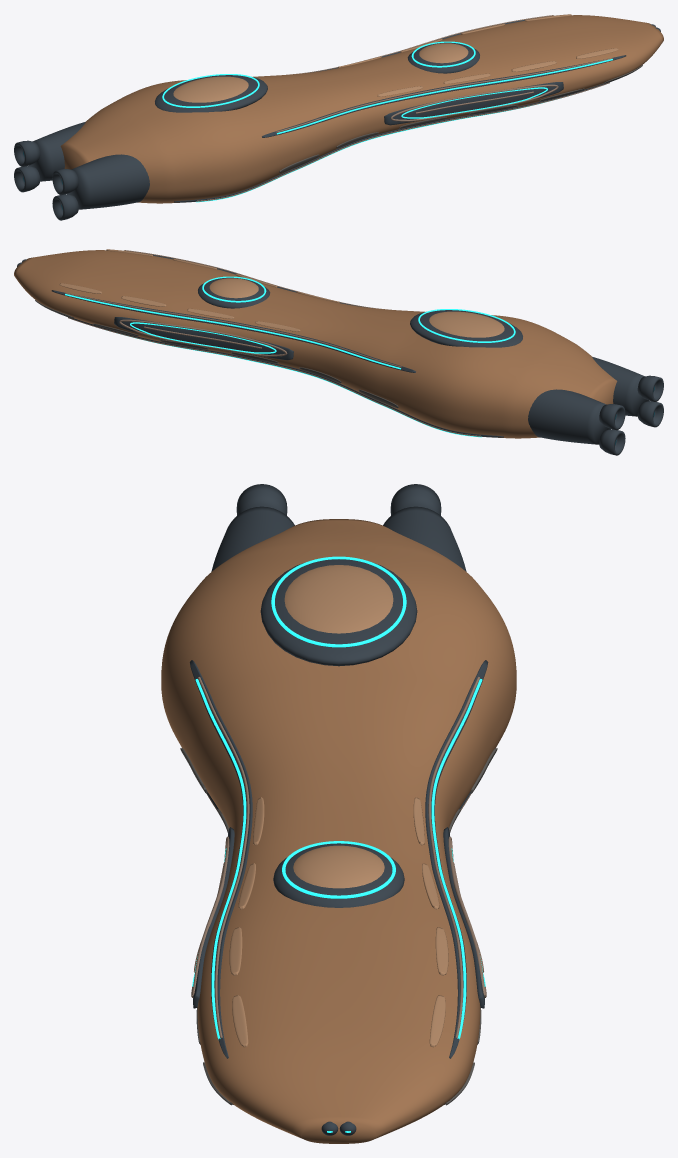
The model's file is electronic-warfare.glb.
The picture shows the model from 3 angles, top to bottom: view 1: azimuth 30°, elevation 25°; view 2: azimuth 150°, elevation 25°; view 3: azimuth 270°, elevation 25°; orthographic projection. The views are drawn at different scales.
Visible parts, largest first — view 1: Continuous pressure hull, Aft propulsion / integrated nacelle, Lateral phase array / contoured housing, Phase-array disk / recessed ring.001, Upper data conduit / seated channel, Phase-array disk / sensor cap.001, Aft propulsion / integrated nacelle.001, Phase-array disk / recessed ring, Lower data conduit / seated channel, Lateral phase array / bronze bezel, Phase-array disk / sensor cap, Upper data conduit / cyan inset (+10 smaller); view 2: Continuous pressure hull, Aft propulsion / integrated nacelle.001, Lateral phase array / contoured housing.001, Phase-array disk / recessed ring.001, Upper data conduit / seated channel.001, Phase-array disk / sensor cap.001, Aft propulsion / integrated nacelle, Phase-array disk / recessed ring, Lower data conduit / seated channel.001, Lateral phase array / bronze bezel.001, Phase-array disk / sensor cap, Upper data conduit / cyan inset.001 (+10 smaller); view 3: Continuous pressure hull, Phase-array disk / recessed ring.001, Phase-array disk / sensor cap.001, Phase-array disk / recessed ring, Phase-array disk / sensor cap, Upper data conduit / seated channel.001, Upper data conduit / seated channel, Aft propulsion / integrated nacelle, Aft propulsion / integrated nacelle.001, Phase-array disk / cyan ring.001, Upper data conduit / cyan inset, Upper data conduit / cyan inset.001 (+5 smaller).
Part boxes in pixels (x1,y1,x2,y2): Continuous pressure hull: (60, 15, 663, 203); Aft propulsion / integrated nacelle: (67, 154, 149, 209); Lateral phase array / contoured housing: (384, 82, 563, 125); Phase-array disk / recessed ring.001: (155, 75, 267, 112); Upper data conduit / seated channel: (262, 55, 626, 137); Phase-array disk / sensor cap.001: (173, 76, 248, 102); Aft propulsion / integrated nacelle.001: (29, 122, 85, 181); Phase-array disk / recessed ring: (407, 42, 479, 73); Lower data conduit / seated channel: (174, 79, 617, 202); Lateral phase array / bronze bezel: (390, 84, 558, 121); Phase-array disk / sensor cap: (419, 43, 468, 63); Upper data conduit / cyan inset: (277, 59, 612, 134); Continuous pressure hull: (14, 250, 617, 438); Aft propulsion / integrated nacelle.001: (528, 389, 610, 444); Lateral phase array / contoured housing.001: (114, 317, 293, 360); Phase-array disk / recessed ring.001: (410, 310, 522, 347); Upper data conduit / seated channel.001: (51, 290, 415, 372); Phase-array disk / sensor cap.001: (429, 311, 504, 337); Aft propulsion / integrated nacelle: (592, 357, 648, 416); Phase-array disk / recessed ring: (198, 277, 270, 308); Lower data conduit / seated channel.001: (60, 314, 503, 437); Lateral phase array / bronze bezel.001: (119, 319, 287, 356); Phase-array disk / sensor cap: (209, 278, 258, 298); Upper data conduit / cyan inset.001: (65, 294, 400, 369); Continuous pressure hull: (161, 519, 516, 1143); Phase-array disk / recessed ring.001: (260, 559, 417, 666); Phase-array disk / sensor cap.001: (284, 565, 393, 633); Phase-array disk / recessed ring: (273, 843, 404, 907); Phase-array disk / sensor cap: (293, 845, 384, 888); Upper data conduit / seated channel.001: (425, 660, 488, 1058); Upper data conduit / seated channel: (189, 660, 252, 1058); Aft propulsion / integrated nacelle: (211, 506, 294, 571); Aft propulsion / integrated nacelle.001: (383, 506, 466, 571); Phase-array disk / cyan ring.001: (271, 556, 406, 647); Upper data conduit / cyan inset: (195, 679, 246, 1039); Upper data conduit / cyan inset.001: (431, 679, 482, 1039).
Size of the model in its own units: 400 by 58.51 by 99.46.
